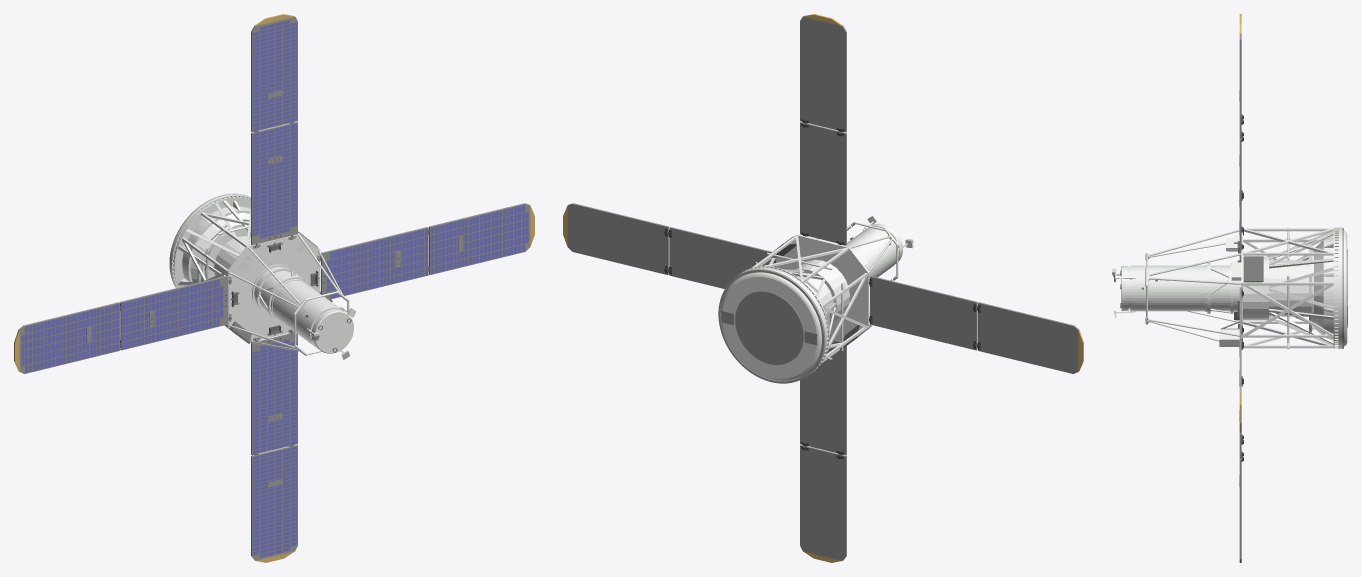
The model's file is hessi-rhessi.glb.
3 renders of one model, left to right at view 1: azimuth 30°, elevation 25°; view 2: azimuth 150°, elevation 25°; view 3: azimuth 270°, elevation 25°, orthographic.
Parts seen in each view (by area): view 1: <LWODefault>; view 2: <LWODefault>; view 3: <LWODefault>.
Boxes of the visible parts, x1,y1,x2,y2 form: <LWODefault>: (14,14,534,562); <LWODefault>: (563,14,1083,562); <LWODefault>: (1112,14,1347,562).
Bounding box in the file's own units: 747 × 747 × 296.
3 materials, 3 textured.
